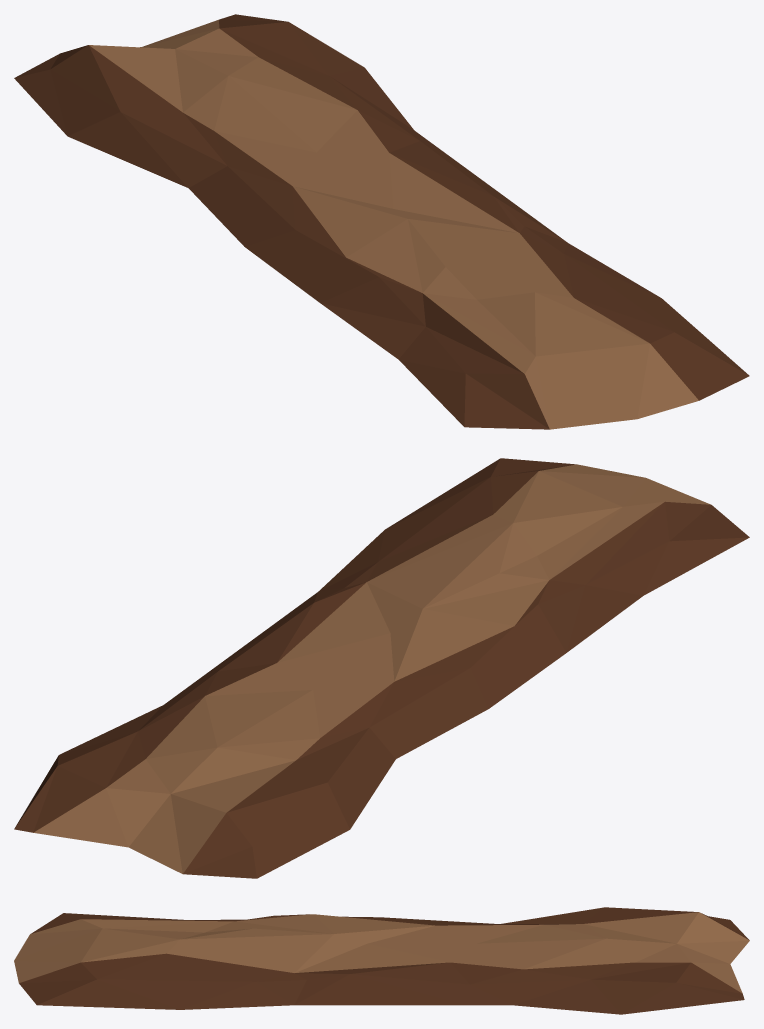
File: Road_ground_2 Asia.fbx
3 renders of one model, top to bottom at view 1: azimuth 30°, elevation 25°; view 2: azimuth 150°, elevation 25°; view 3: azimuth 270°, elevation 25°, orthographic. The views are drawn at different scales.
Visible parts, largest first — view 1: Road_ground_2; view 2: Road_ground_2; view 3: Road_ground_2.
Boxes of the visible parts, left/top/right/bottom form: Road_ground_2: left=14, top=14, right=749, bottom=429; Road_ground_2: left=14, top=458, right=749, bottom=878; Road_ground_2: left=14, top=907, right=749, bottom=1014.
Size of the model in its own units: 2.94 by 0.3578 by 9.
